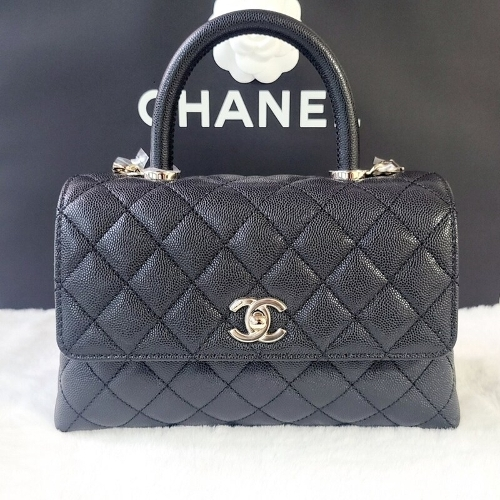channel: (29, 150, 478, 444), (223, 290, 294, 369)
